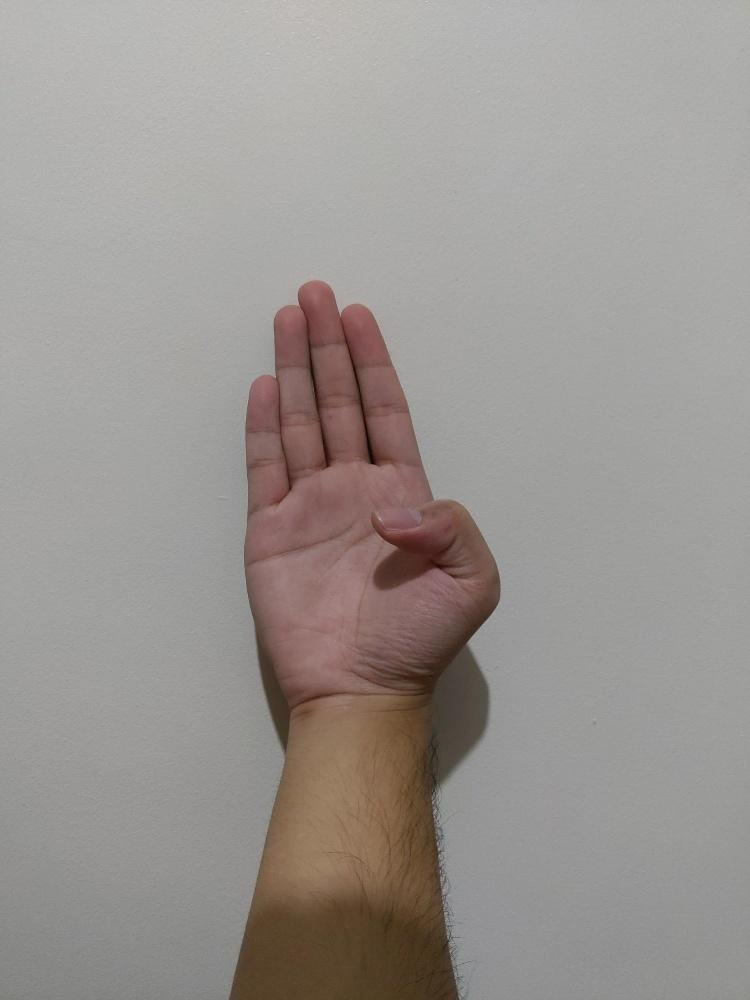b: (241, 279, 502, 710)
